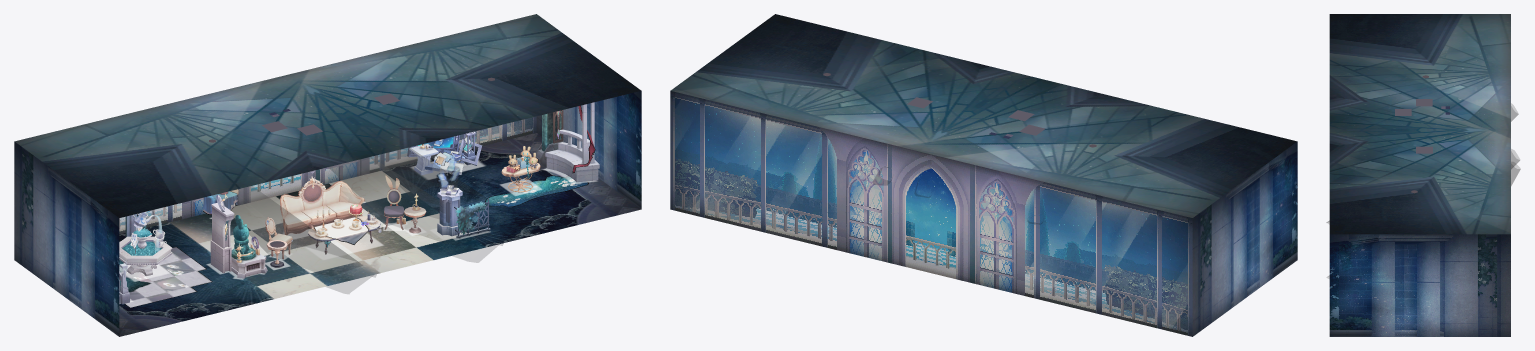
The model's file is amiya.glb.
3 views of the same model, side by side, from view 1: azimuth 30°, elevation 25°; view 2: azimuth 150°, elevation 25°; view 3: azimuth 270°, elevation 25° (orthographic). The views are drawn at different scales.
Parts seen in each view (by area): view 1: ROOM_room_01, ROOM_floor, ROOM_light, furniM_amiya_carpet_01, furniM_amiya_stoneChair_01, furniM_amiya_musicPlayer_01, furniM_amiya_fountain_01, furniM_amiya_sofa_01, furniM_amiya_messageBoard_01, furniM_amiya_sofa_02, furniM_amiya_carpet_02, furniM_amiya_fence_01 (+10 smaller); view 2: ROOM_room_01, ROOM_Ldoor, furniM_amiya_ceilingLamp_01; view 3: ROOM_room_01, ROOM_Rdoor, furniM_amiya_ceilingLamp_01, ROOM_light.
Part boxes in pixels (x1=…): ROOM_room_01: x1=14, y1=14, x2=641, y2=336; ROOM_floor: x1=119, y1=133, x2=640, y2=336; ROOM_light: x1=212, y1=147, x2=502, y2=293; furniM_amiya_carpet_01: x1=119, y1=240, x2=212, y2=307; furniM_amiya_stoneChair_01: x1=535, y1=102, x2=599, y2=182; furniM_amiya_musicPlayer_01: x1=210, y1=195, x2=267, y2=278; furniM_amiya_fountain_01: x1=119, y1=211, x2=172, y2=275; furniM_amiya_sofa_01: x1=280, y1=181, x2=364, y2=235; furniM_amiya_messageBoard_01: x1=407, y1=135, x2=482, y2=175; furniM_amiya_sofa_02: x1=283, y1=176, x2=353, y2=229; furniM_amiya_carpet_02: x1=485, y1=175, x2=588, y2=206; furniM_amiya_fence_01: x1=437, y1=188, x2=490, y2=238; ROOM_room_01: x1=670, y1=14, x2=1297, y2=336; ROOM_Ldoor: x1=1274, y1=213, x2=1287, y2=276; furniM_amiya_ceilingLamp_01: x1=907, y1=97, x2=1045, y2=138; ROOM_room_01: x1=1329, y1=14, x2=1510, y2=336; ROOM_Rdoor: x1=1346, y1=290, x2=1369, y2=336; furniM_amiya_ceilingLamp_01: x1=1395, y1=99, x2=1449, y2=153; ROOM_light: x1=1326, y1=104, x2=1520, y2=278.
Size of the model in its own units: 10.12 by 2.42 by 3.78.
Materials: 9 (8 with a texture image).
